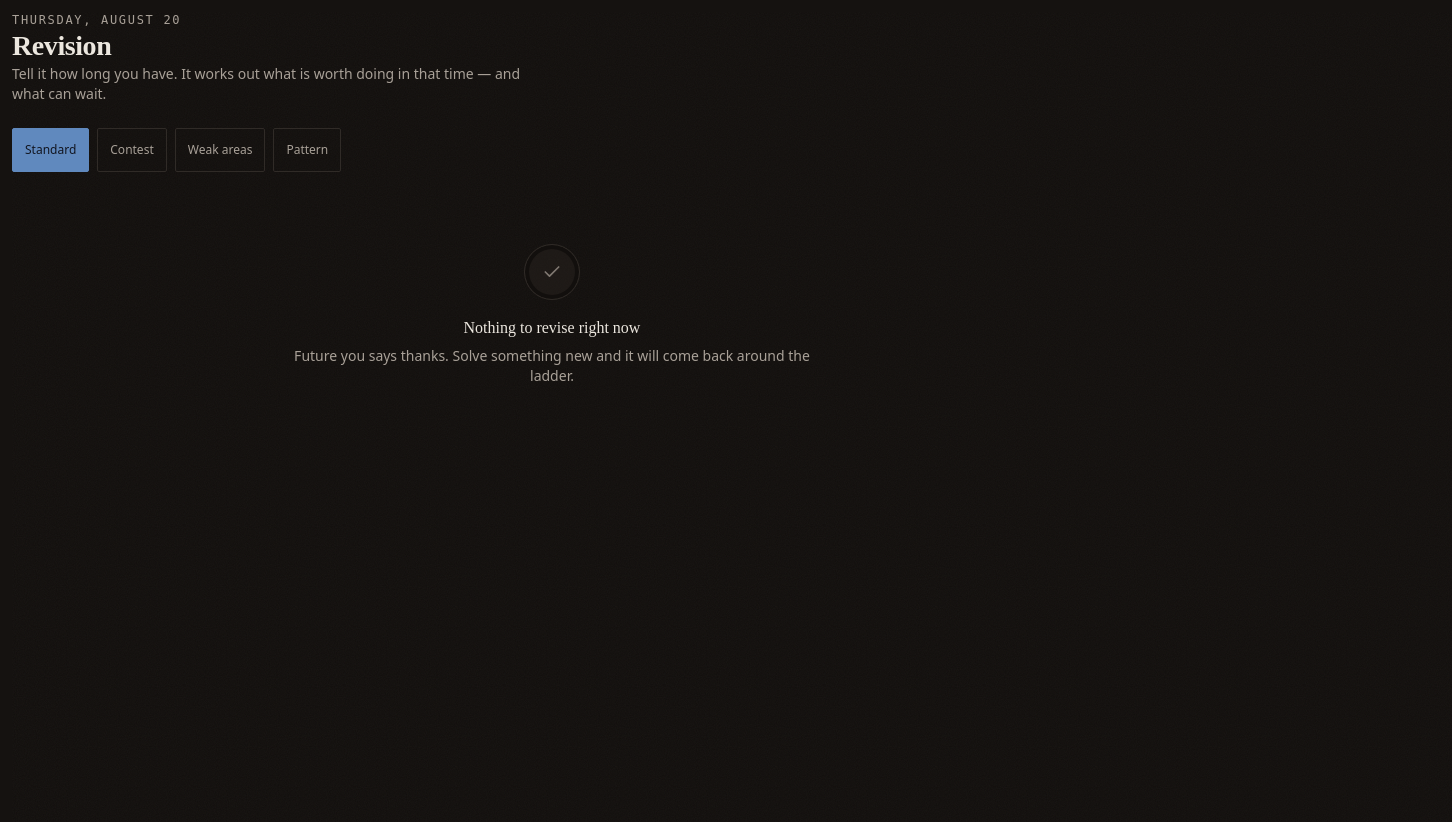
Test: Contest Revision — the band reading is conservative and never about the learner › at the minimum it reads a band, states its sample size, and describes the PROBLEMS
This screenshot has width=1452, height=822.
Click the radio button labelled "Contest". click: (132, 150)
box: [97,128,167,172]
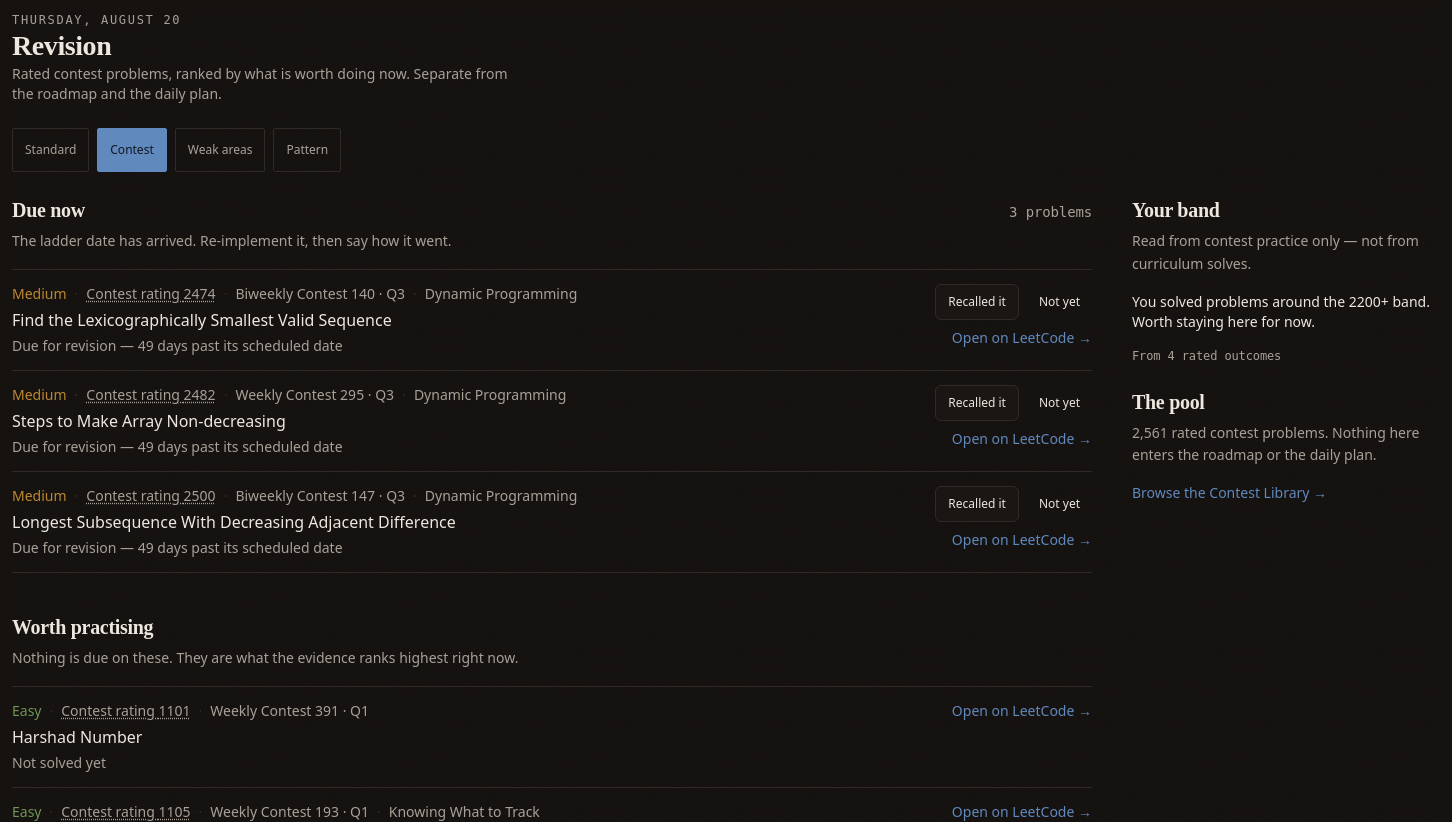
Expected: the text "You solved problems around the" is shown, [1132,292,1430,330]
Expected: the text "From 4 rated outcomes" is shown, [1132,348,1281,362]
